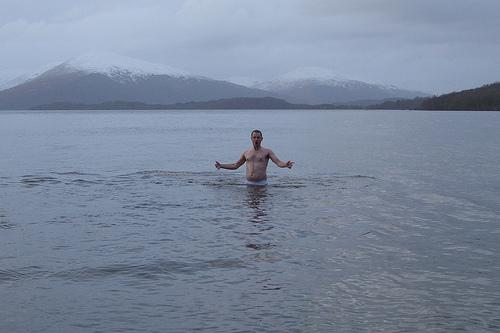human: (213, 128, 295, 188)
